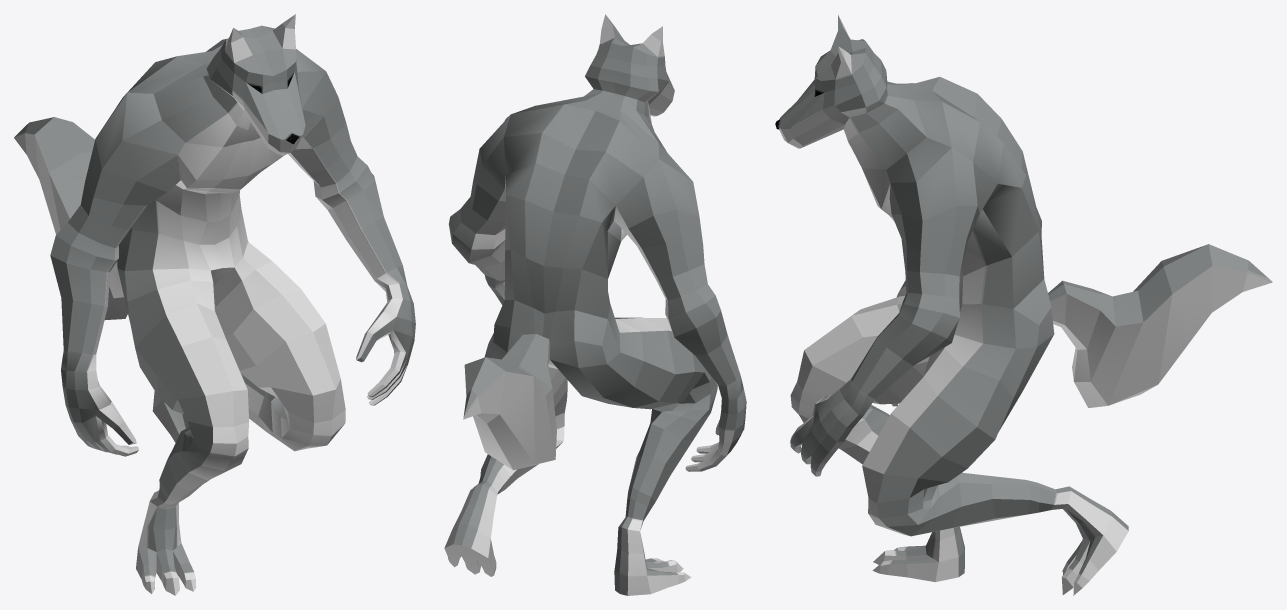
The model's file is WolfWalk(38).obj.
3 renders of one model, left to right at view 1: azimuth 30°, elevation 25°; view 2: azimuth 150°, elevation 25°; view 3: azimuth 270°, elevation 25°, orthographic. The views are drawn at different scales.
Visible parts, largest first — view 1: Box001; view 2: Box001; view 3: Box001.
Boxes of the visible parts, bbox=[...] form: Box001: bbox=[14, 14, 415, 595]; Box001: bbox=[444, 14, 746, 595]; Box001: bbox=[775, 15, 1272, 595].
Bounding box in the file's own units: 74.49 × 129 × 102.
